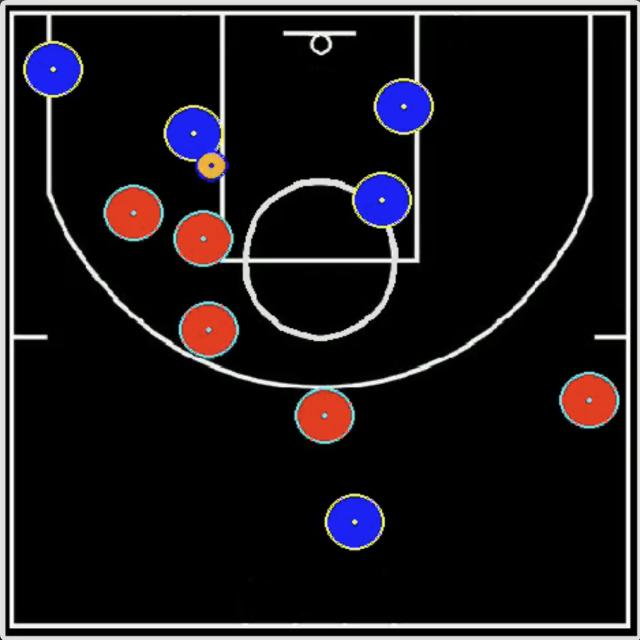Basketball: (196, 152, 229, 182)
Player_A: (23, 41, 84, 98), (353, 171, 412, 229), (374, 79, 434, 135), (325, 494, 384, 550), (164, 105, 221, 161)
Player_B: (173, 210, 234, 268), (178, 301, 239, 359), (559, 371, 620, 429), (294, 388, 355, 444), (104, 185, 164, 241)
